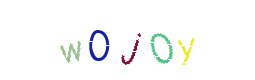0: (81, 0, 161, 80), (91, 0, 171, 80)
J: (87, 0, 167, 80)
W: (59, 0, 139, 80)
Y: (146, 0, 226, 80)
